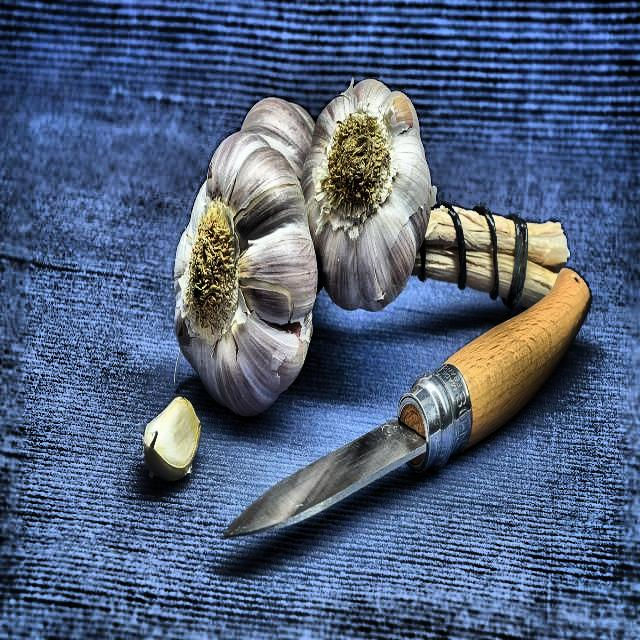knife: (221, 262, 594, 556)
